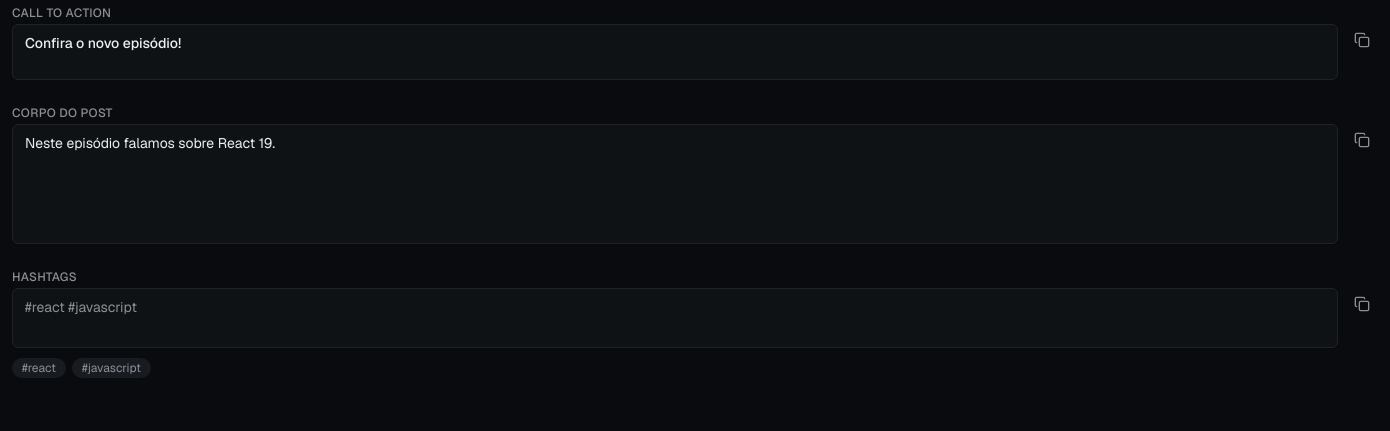
Test: SocialPostEditor › shows SaveStatusIndicator during save cycle
Type "X" into the text box showing "Confira o novo episódio!".
click(675, 52); type("X")  # box [12,24,1338,80]
Wait 1500 ms
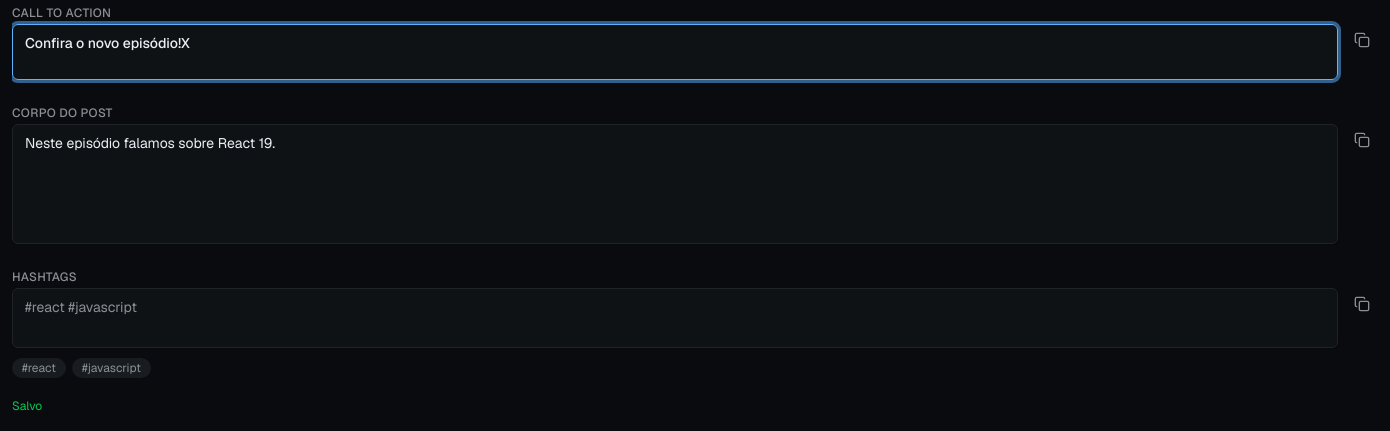
Expected: the text "Salvo" is shown, [12,398,42,414]
